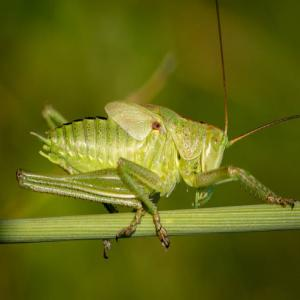locust: (16, 81, 251, 211)
